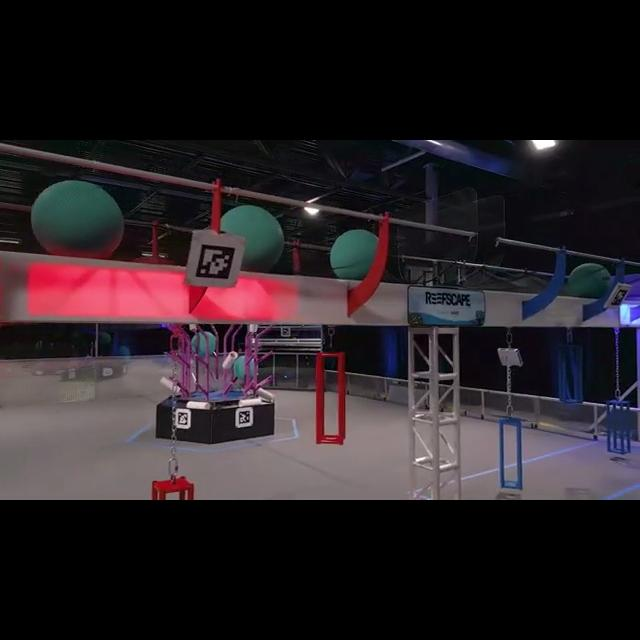ALGAE: (30, 181, 126, 267), (214, 205, 284, 275), (330, 228, 384, 284), (567, 263, 613, 305)
